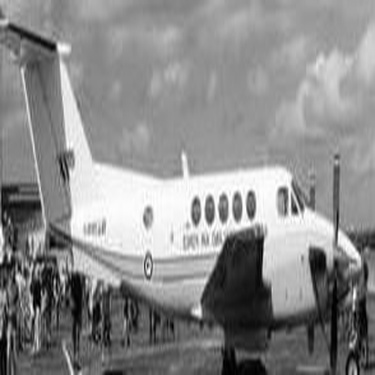airplane: (2, 1, 372, 370)
